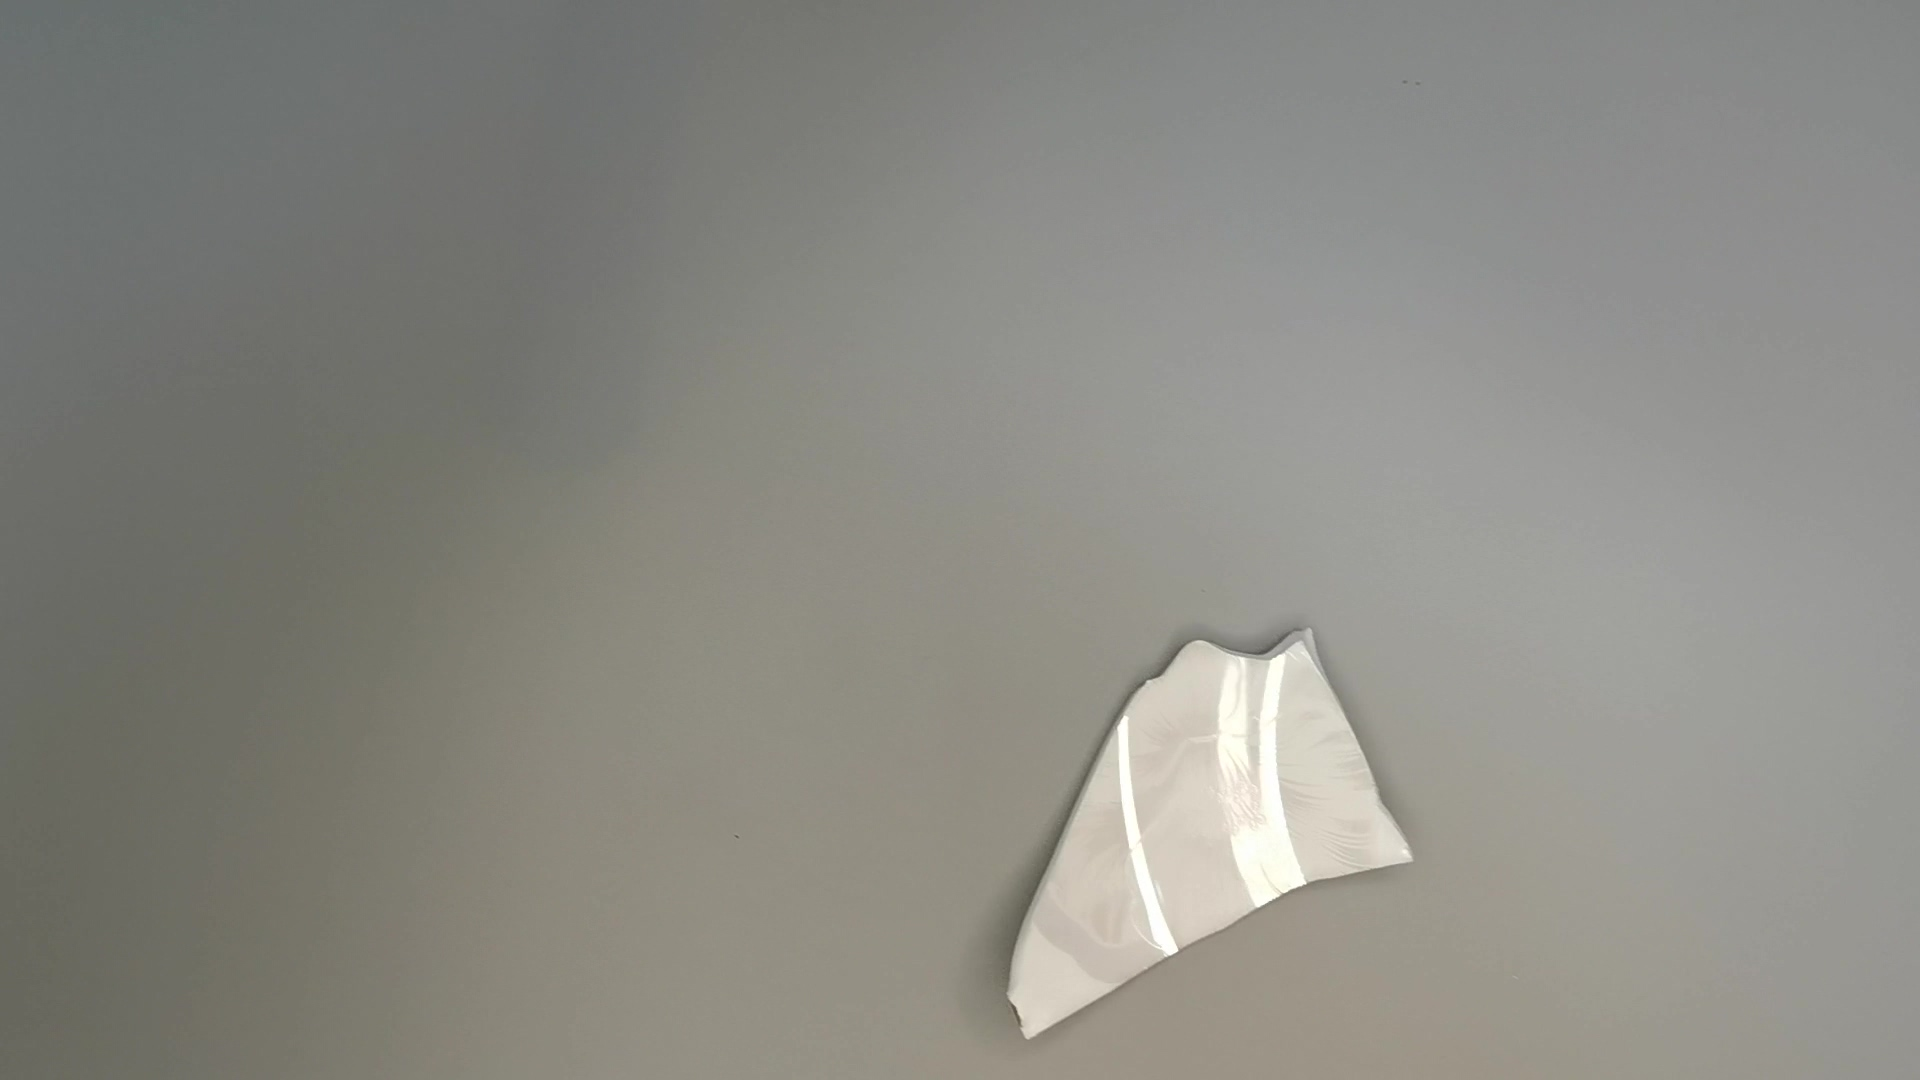ceramic: (988, 622, 1422, 1058)
